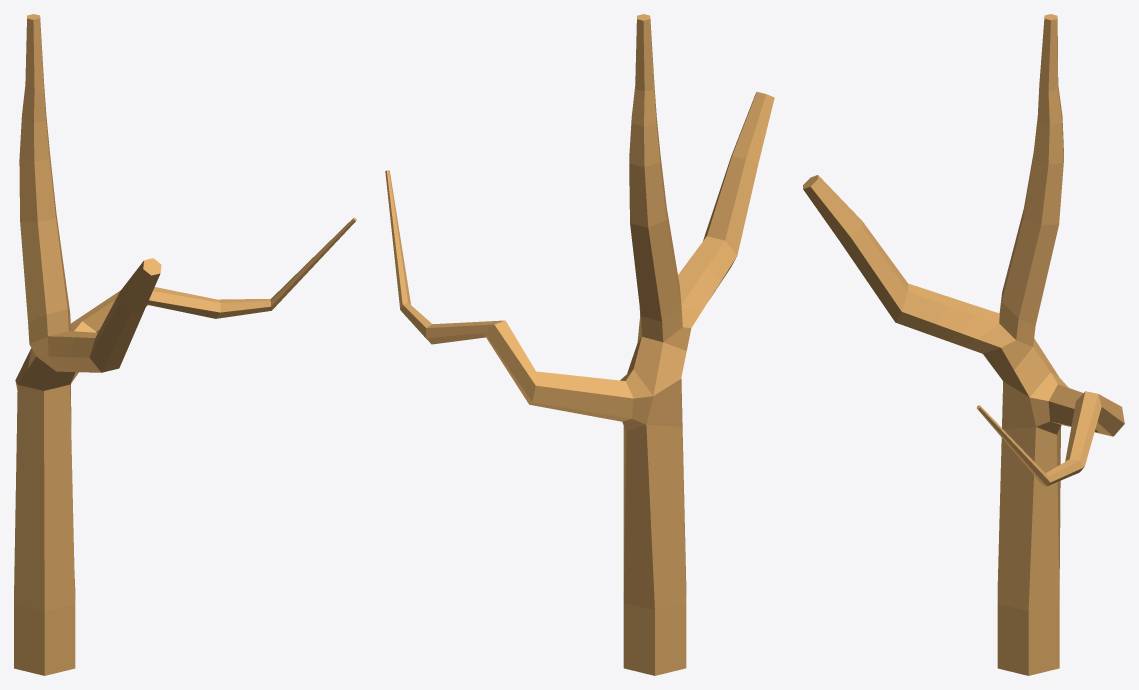
Rendered from small tree.fbx.
The picture shows the model from 3 angles, left to right: view 1: azimuth 30°, elevation 25°; view 2: azimuth 150°, elevation 25°; view 3: azimuth 270°, elevation 25°; orthographic projection. The views are drawn at different scales.
Visible parts, largest first — view 1: pCylinder1; view 2: pCylinder1; view 3: pCylinder1.
Boxes of the visible parts, x1,y1,x2,y2 form: pCylinder1: (14,14,356,675); pCylinder1: (385,14,774,675); pCylinder1: (803,14,1124,675).
Size of the model in its own units: 10.4 by 19.88 by 9.
